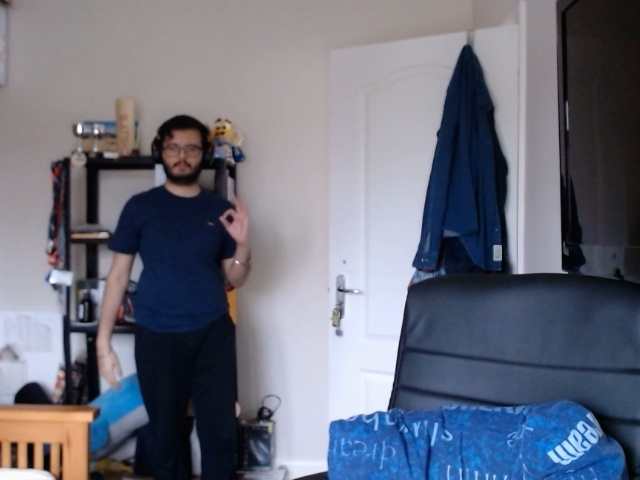Okay: (215, 187, 259, 254)
